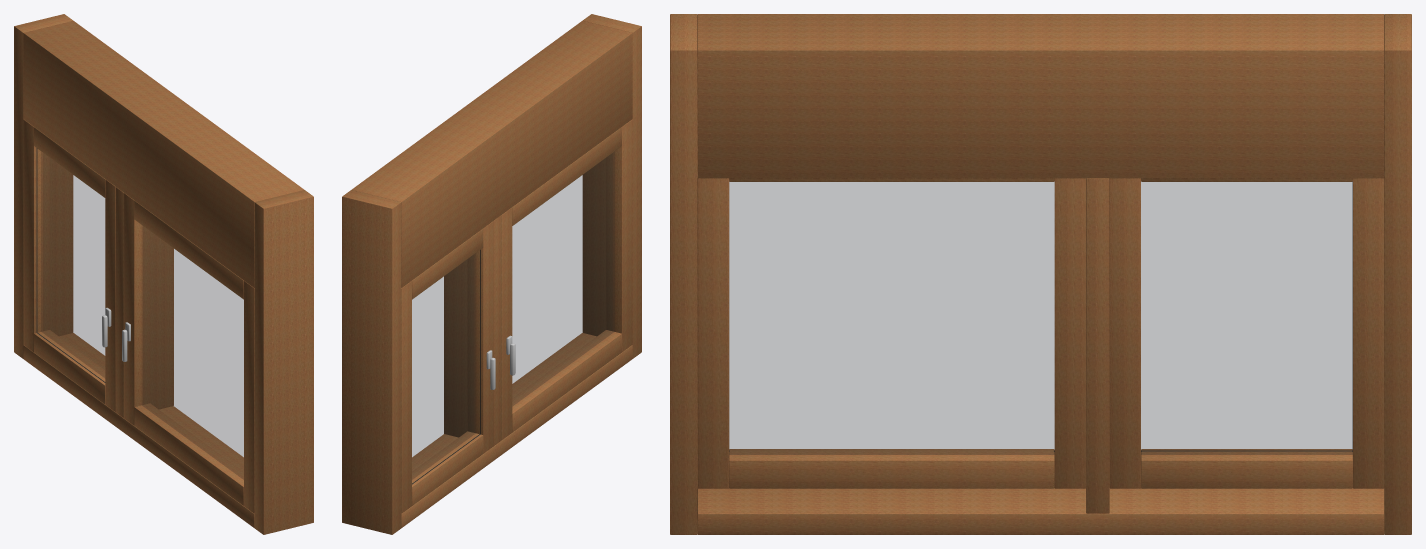
The model's file is recrDUawklcvvKo9t.glb.
3 renders of one model, left to right at view 1: azimuth 30°, elevation 25°; view 2: azimuth 150°, elevation 25°; view 3: azimuth 270°, elevation 25°, orthographic. The views are drawn at different scales.
Visible parts, largest first — view 1: fenetre_chambre__cadre, fenetre_chambre__ouvrant2, fenetre_chambre__ouvrant1; view 2: fenetre_chambre__cadre, fenetre_chambre__ouvrant2, fenetre_chambre__ouvrant1; view 3: fenetre_chambre__cadre, fenetre_chambre__ouvrant2, fenetre_chambre__ouvrant1.
Part boxes in pixels (x1=…): fenetre_chambre__cadre: x1=14, y1=14, x2=313, y2=534; fenetre_chambre__ouvrant2: x1=122, y1=193, x2=254, y2=513; fenetre_chambre__ouvrant1: x1=23, y1=119, x2=115, y2=412; fenetre_chambre__cadre: x1=342, y1=14, x2=641, y2=534; fenetre_chambre__ouvrant2: x1=502, y1=119, x2=632, y2=439; fenetre_chambre__ouvrant1: x1=401, y1=221, x2=495, y2=513; fenetre_chambre__cadre: x1=670, y1=14, x2=1411, y2=534; fenetre_chambre__ouvrant2: x1=697, y1=178, x2=1085, y2=488; fenetre_chambre__ouvrant1: x1=1109, y1=178, x2=1384, y2=488.
Size of the model in its own units: 0.25 by 1.36 by 1.89.
Materials: 4 (2 with a texture image).
